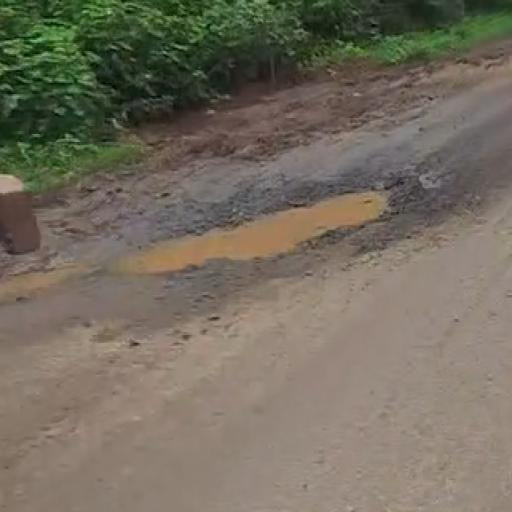pothole: (87, 165, 450, 295)
